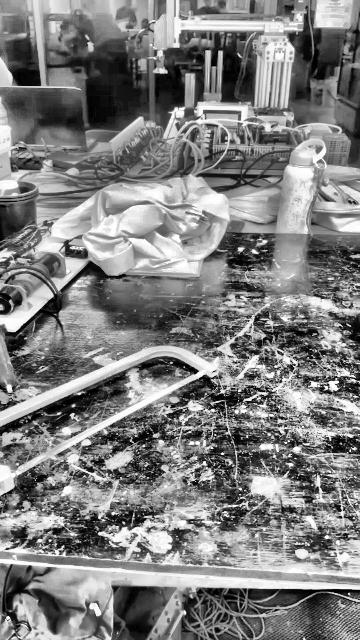pot: (0, 186, 39, 239)
